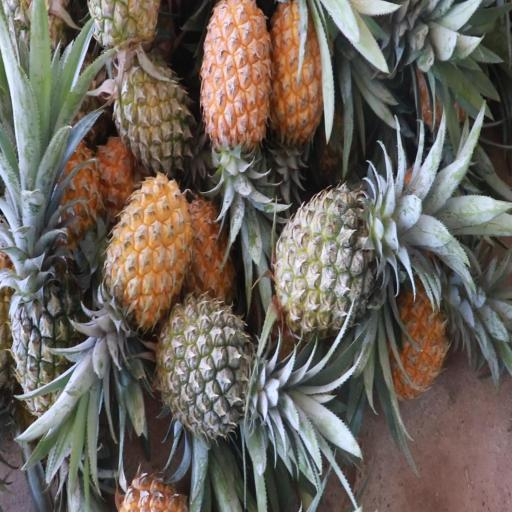Pineapple - v8 v1: (91, 176, 195, 363), (199, 0, 271, 213), (271, 0, 327, 163)
